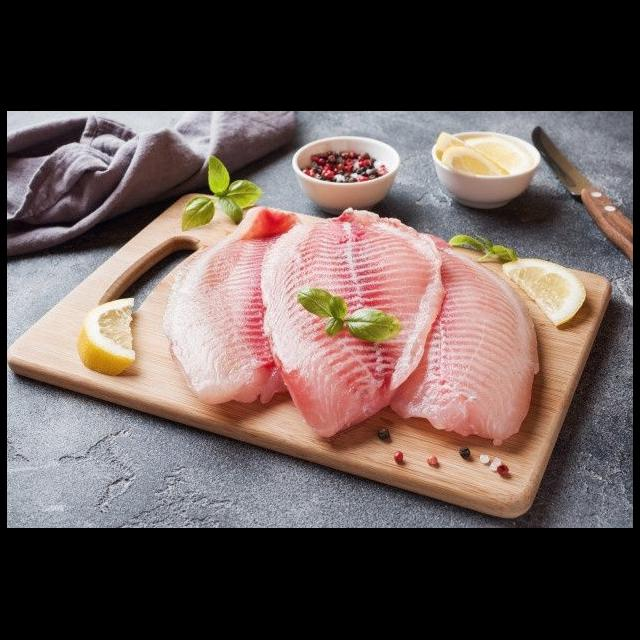fish: (253, 202, 462, 442)
